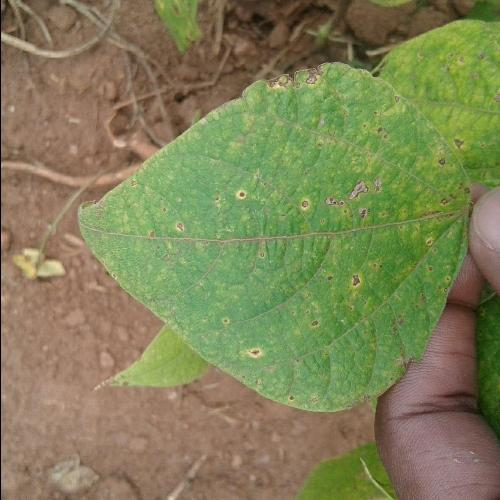hawar: (314, 165, 398, 227), (304, 262, 376, 331), (80, 196, 124, 300), (254, 61, 339, 104), (438, 157, 478, 221), (226, 185, 250, 209), (246, 344, 268, 361)
mozaik: (175, 128, 429, 338)
